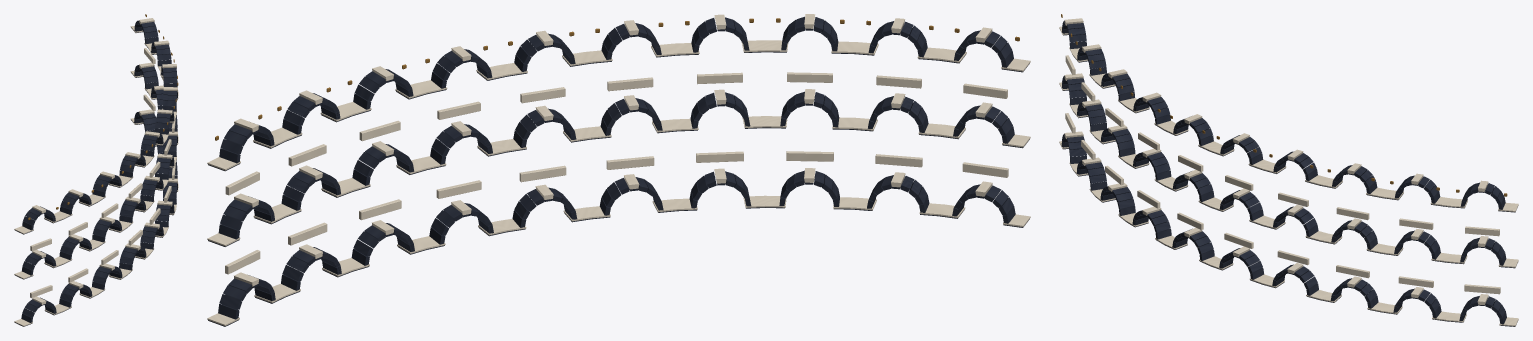
Rendered from COL_ExteriorArcade_Q1.glb.
3 renders of one model, left to right at view 1: azimuth 30°, elevation 25°; view 2: azimuth 150°, elevation 25°; view 3: azimuth 270°, elevation 25°, orthographic. The views are drawn at different scales.
Parts seen in each view (by area): view 1: COL_ExteriorArcade_Q1; view 2: COL_ExteriorArcade_Q1; view 3: COL_ExteriorArcade_Q1.
Part boxes in pixels (x1=…): COL_ExteriorArcade_Q1: x1=14, y1=14, x2=178, y2=326; COL_ExteriorArcade_Q1: x1=207, y1=14, x2=1030, y2=326; COL_ExteriorArcade_Q1: x1=1059, y1=14, x2=1518, y2=326.
Bounding box in the file's own units: 110 × 37.63 × 115.
3 materials, 3 textured.
